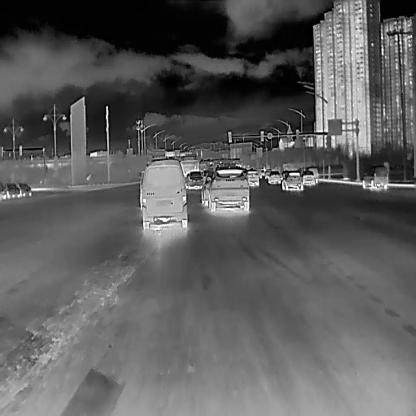car: (139, 158, 186, 230), (207, 166, 250, 213), (362, 164, 388, 190), (280, 171, 303, 191), (184, 171, 202, 189), (201, 173, 210, 205), (3, 182, 18, 198), (17, 181, 32, 197), (246, 169, 258, 187), (301, 170, 315, 185), (267, 169, 280, 185), (308, 167, 319, 182)
